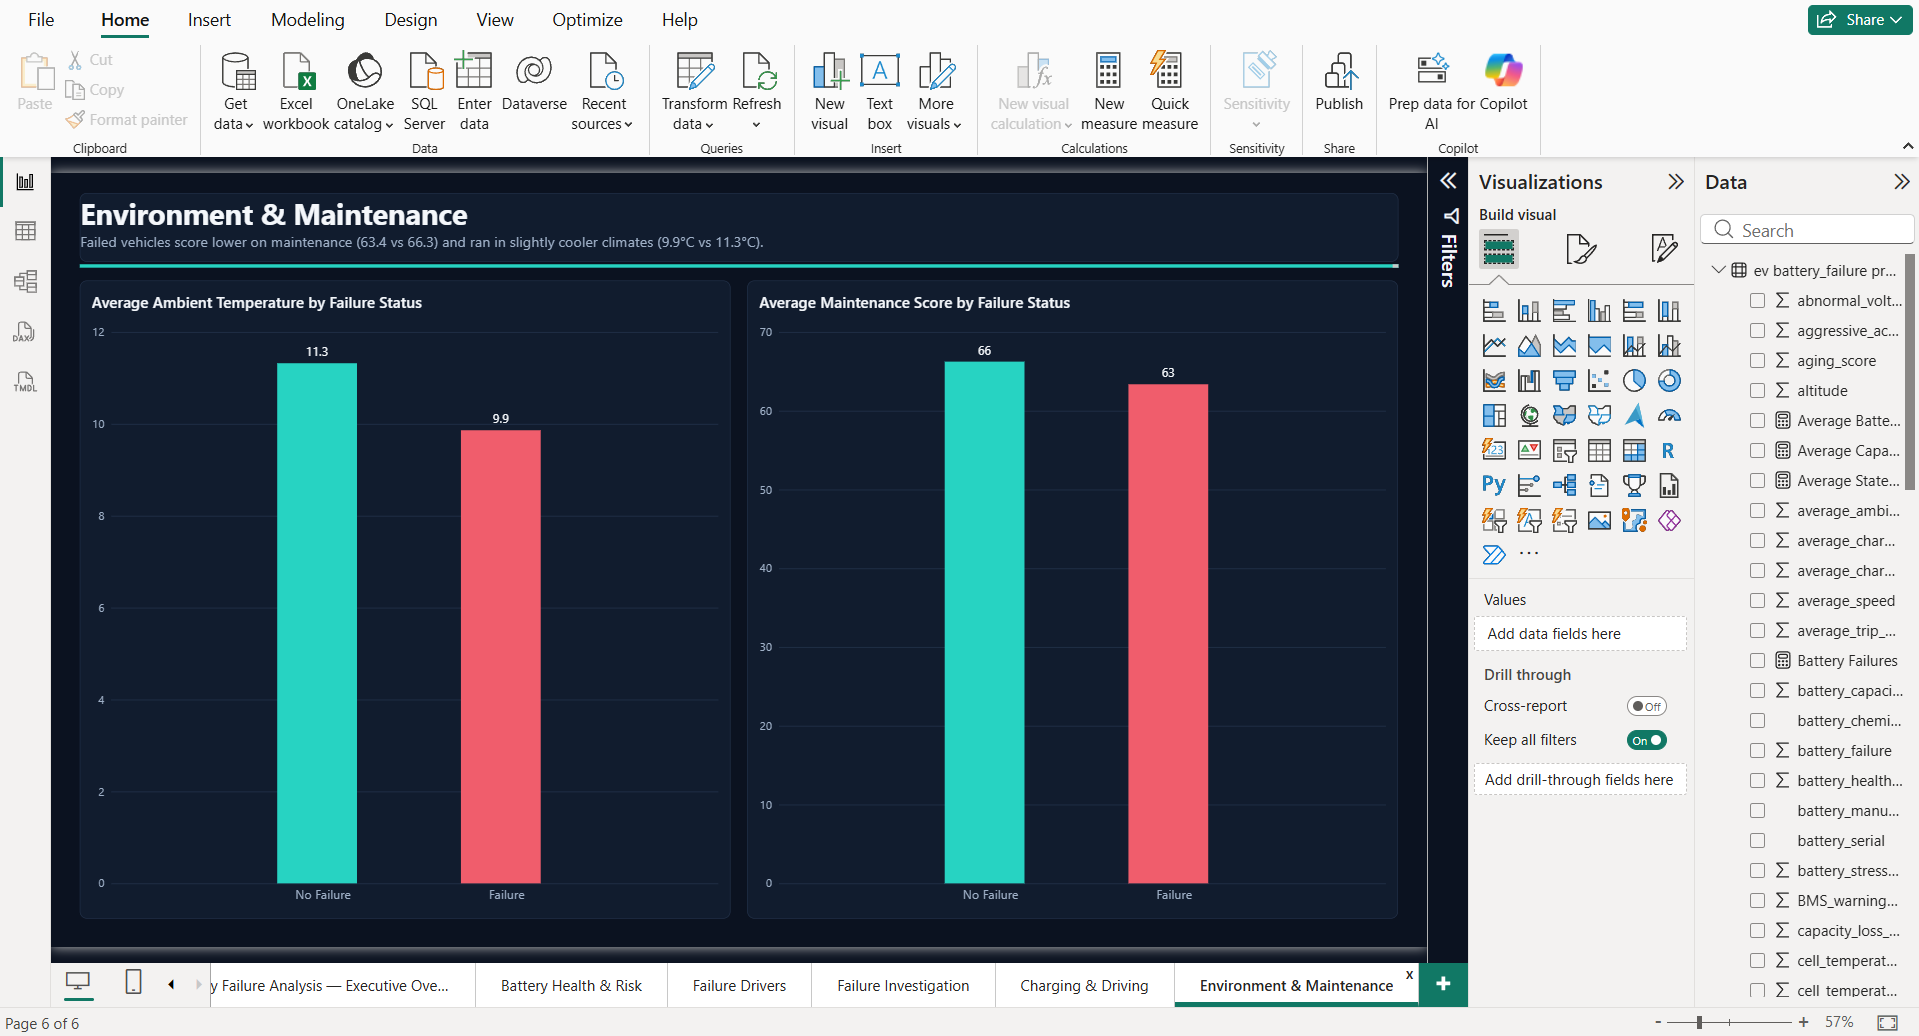

Layout of this report page (visuals, bound fields, positions):
{"tool":"powerbi","page":{"name":"Environment & Maintenance","canvas":[1920,1080],"ordinal":5},"visuals":[{"type":"clusteredColumnChart","title":"Average Ambient Temperature by Failure Status","fields":{"Category":["ev battery_failure prediction Dataset.Failure Status Label"],"Y":["Avg(ev battery_failure prediction Dataset.average_ambient_temperature)"]},"box":[40,150,908,890],"z":0},{"type":"clusteredColumnChart","title":"Average Maintenance Score by Failure Status","fields":{"Category":["ev battery_failure prediction Dataset.Failure Status Label"],"Y":["Avg(ev battery_failure prediction Dataset.maintenance_score)"]},"box":[972,150,908,890],"z":1},{"type":"textbox","box":[40,28,1840,96],"z":2},{"type":"textbox","box":[40,128,1840,5],"z":50}]}

Visuals, with their boxes on the page's 1920x1080 design canvas (x1, y1, x2, y2). These are canvas units, not pixel positions in the 1919x1036 screenshot, which may show the page scaled, cropped or inside an application window:
"Average Ambient Temperature by Failure Status" clusteredColumnChart: {"left": 40, "top": 150, "right": 948, "bottom": 1040}
"Average Maintenance Score by Failure Status" clusteredColumnChart: {"left": 972, "top": 150, "right": 1880, "bottom": 1040}
textbox: {"left": 40, "top": 28, "right": 1880, "bottom": 124}
textbox: {"left": 40, "top": 128, "right": 1880, "bottom": 133}
